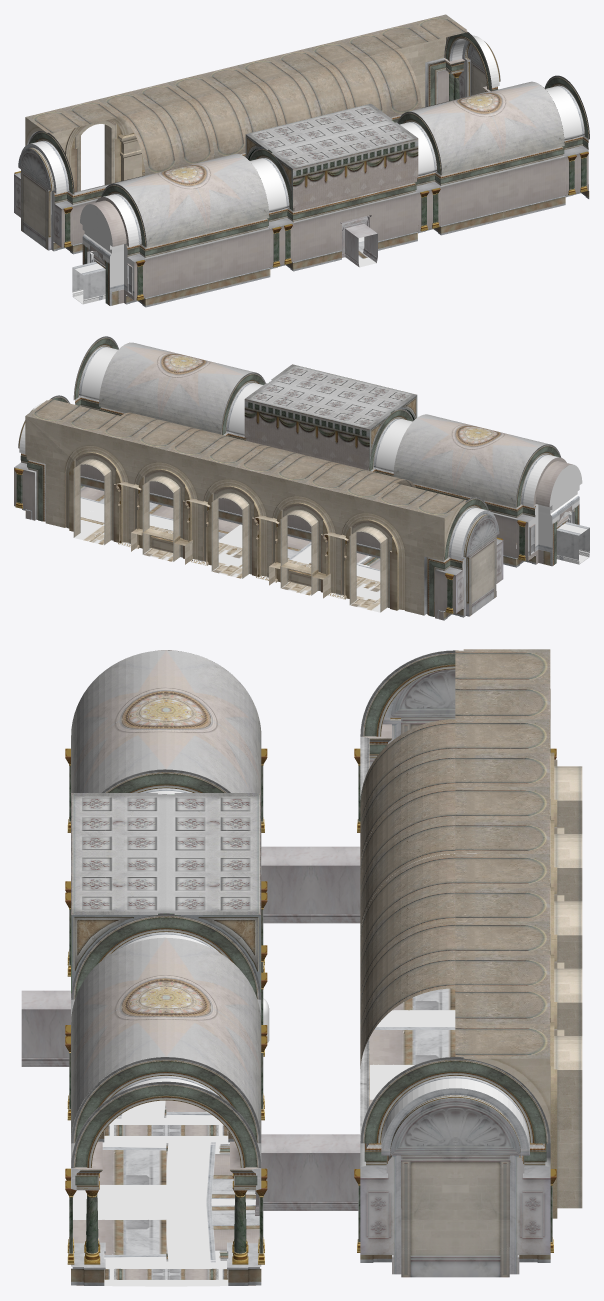
Rendered from Hallway.obj.
3 renders of one model, top to bottom at view 1: azimuth 30°, elevation 25°; view 2: azimuth 150°, elevation 25°; view 3: azimuth 270°, elevation 25°, orthographic. The views are drawn at different scales.
Parts seen in each view (by area): view 1: Gang_Dach_Bogen048, Gang_Dach_Bogen049, Gang_Dach_Ecke002, object 2, object 75, Gang_Dach_Bogen_Var006, Gang_Dach_Bogen_Var003, Gang_Dach_Bogen_Var005, Gang_Wand_Standart068, Gang_Wand_Standart067, Gang_Wand_Standart065, Gang_Wand_Standart066 (+20 smaller); view 2: Gang_Dach_Bogen048, Gang_Dach_Bogen049, Gang_Dach_Ecke003, object 77, Repeating_Segment046, Repeating_Segment043, object 49, Repeating_Segment045, Repeating_Segment044, object 35, object 75, Gang_Cap_Bogen002 (+16 smaller); view 3: Gang_Cap_Bogen001, Gang_Dach_Bogen049, Gang_Dach_Bogen048, object 56, object 49, Gang_Dach_Ecke002, Gang_Dach_Ecke003, object 68, Repeating_Segment046, Repeating_Segment043, Repeating_Segment044, Repeating_Segment045 (+21 smaller).
Boxes of the visible parts, bbox=[...] form: Gang_Dach_Bogen048: bbox=[114, 153, 269, 247]; Gang_Dach_Bogen049: bbox=[409, 81, 564, 175]; Gang_Dach_Ecke002: bbox=[271, 121, 418, 211]; object 2: bbox=[293, 182, 418, 271]; object 75: bbox=[72, 197, 134, 305]; Gang_Dach_Bogen_Var006: bbox=[121, 100, 213, 175]; Gang_Dach_Bogen_Var003: bbox=[329, 49, 421, 117]; Gang_Dach_Bogen_Var005: bbox=[191, 83, 281, 158]; Gang_Wand_Standart068: bbox=[440, 161, 503, 234]; Gang_Wand_Standart067: bbox=[502, 146, 565, 220]; Gang_Wand_Standart065: bbox=[206, 218, 270, 292]; Gang_Wand_Standart066: bbox=[145, 233, 207, 307]; Gang_Dach_Bogen048: bbox=[393, 414, 559, 507]; Gang_Dach_Bogen049: bbox=[99, 342, 265, 434]; Gang_Dach_Ecke003: bbox=[244, 382, 391, 470]; object 77: bbox=[365, 483, 466, 615]; Repeating_Segment046: bbox=[158, 433, 258, 575]; Repeating_Segment043: bbox=[296, 466, 396, 608]; object 49: bbox=[25, 399, 119, 541]; Repeating_Segment045: bbox=[89, 416, 189, 558]; Repeating_Segment044: bbox=[227, 449, 327, 591]; object 35: bbox=[80, 464, 380, 581]; object 75: bbox=[528, 457, 589, 566]; Gang_Cap_Bogen002: bbox=[456, 510, 503, 617]; Gang_Cap_Bogen001: bbox=[360, 1088, 550, 1277]; Gang_Dach_Bogen049: bbox=[71, 937, 261, 1141]; Gang_Dach_Bogen048: bbox=[71, 650, 261, 853]; object 56: bbox=[71, 1057, 261, 1286]; object 49: bbox=[455, 988, 582, 1218]; Gang_Dach_Ecke002: bbox=[71, 793, 166, 997]; Gang_Dach_Ecke003: bbox=[166, 793, 261, 993]; object 68: bbox=[360, 1057, 550, 1262]; Repeating_Segment046: bbox=[455, 853, 582, 972]; Repeating_Segment043: bbox=[455, 719, 582, 837]; Repeating_Segment044: bbox=[455, 786, 582, 905]; Repeating_Segment045: bbox=[455, 921, 582, 1039].
Size of the model in its own units: 48.61 by 9.75 by 24.16.
7 materials, 7 textured.
